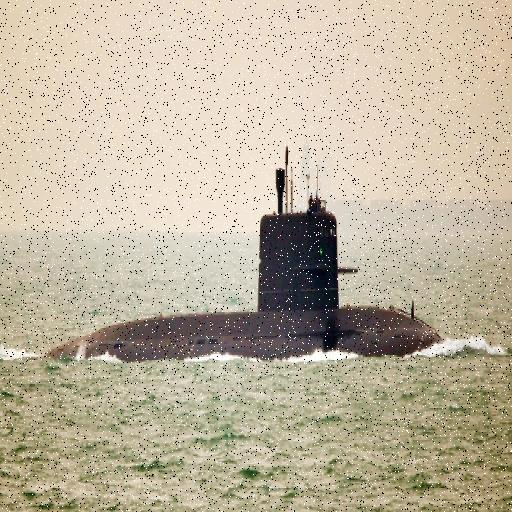submarine: (1, 207, 446, 350)
